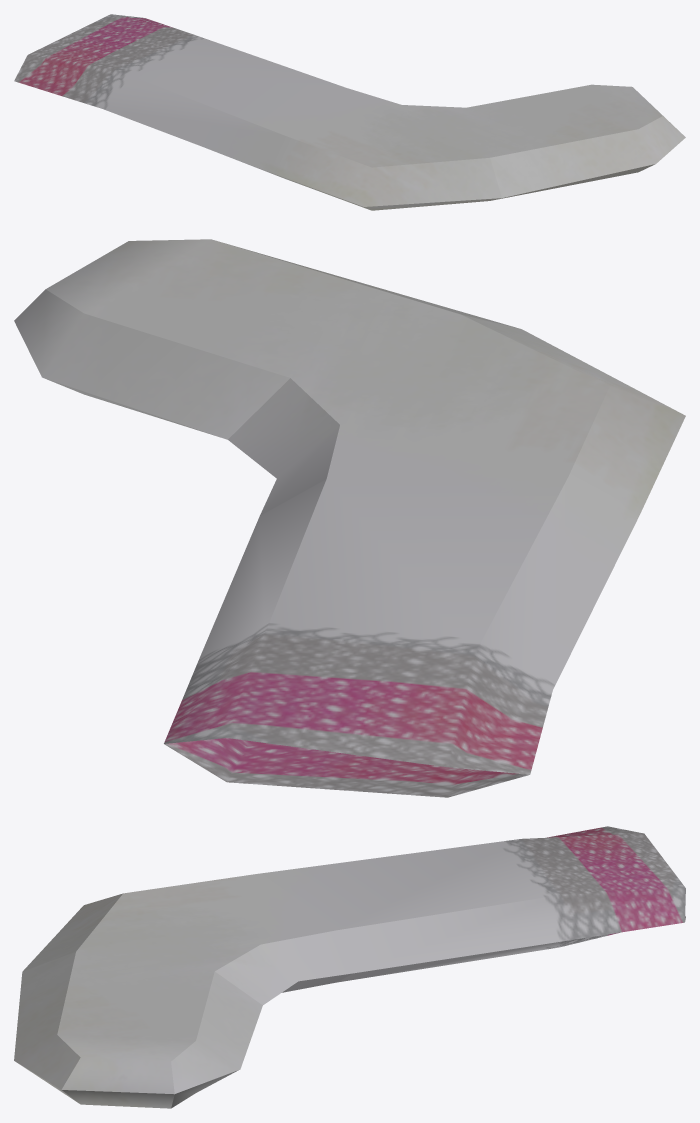
File: FBX_Model_MABacklog_Sock.fbx
The picture shows the model from 3 angles, top to bottom: view 1: azimuth 30°, elevation 25°; view 2: azimuth 150°, elevation 25°; view 3: azimuth 270°, elevation 25°; orthographic projection. The views are drawn at different scales.
Parts seen in each view (by area): view 1: geo_Sock; view 2: geo_Sock; view 3: geo_Sock.
Part boxes in pixels (bbox=[...]): geo_Sock: bbox=[14, 14, 685, 210]; geo_Sock: bbox=[14, 239, 685, 797]; geo_Sock: bbox=[14, 826, 685, 1108].
Size of the model in its own units: 2.5 by 0.2275 by 2.65.
Materials: 1 (1 with a texture image).
